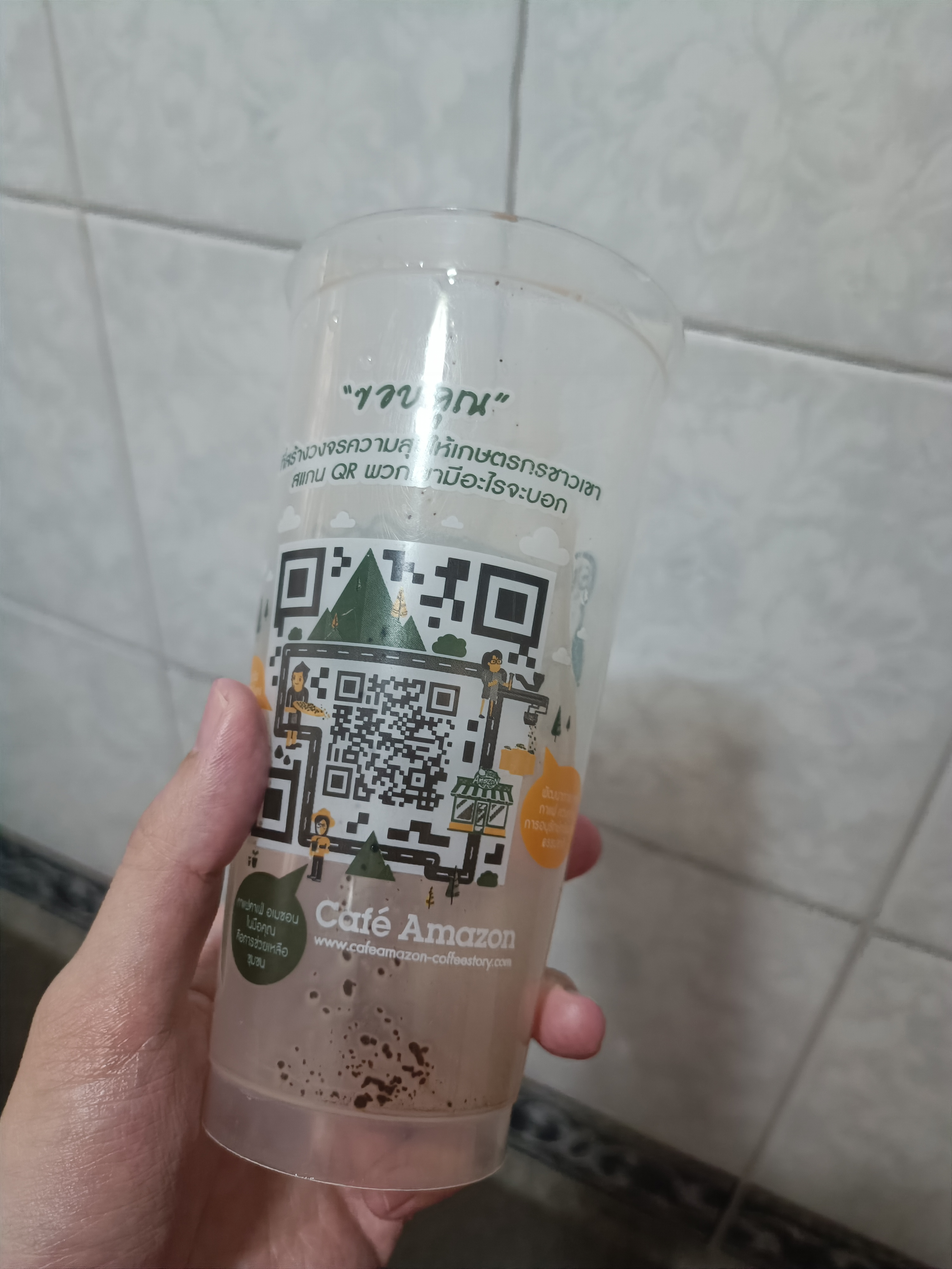plastic: (127, 201, 721, 1205)
